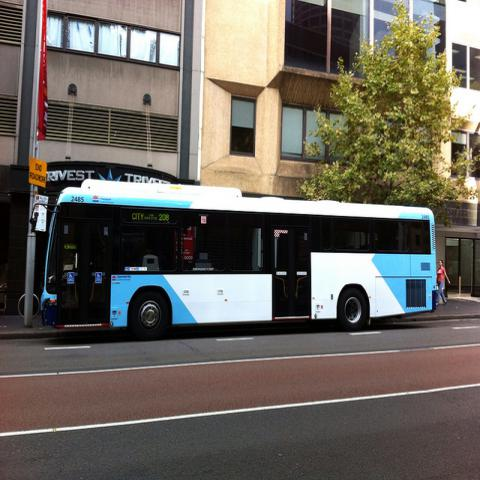bus: (42, 178, 442, 341)
